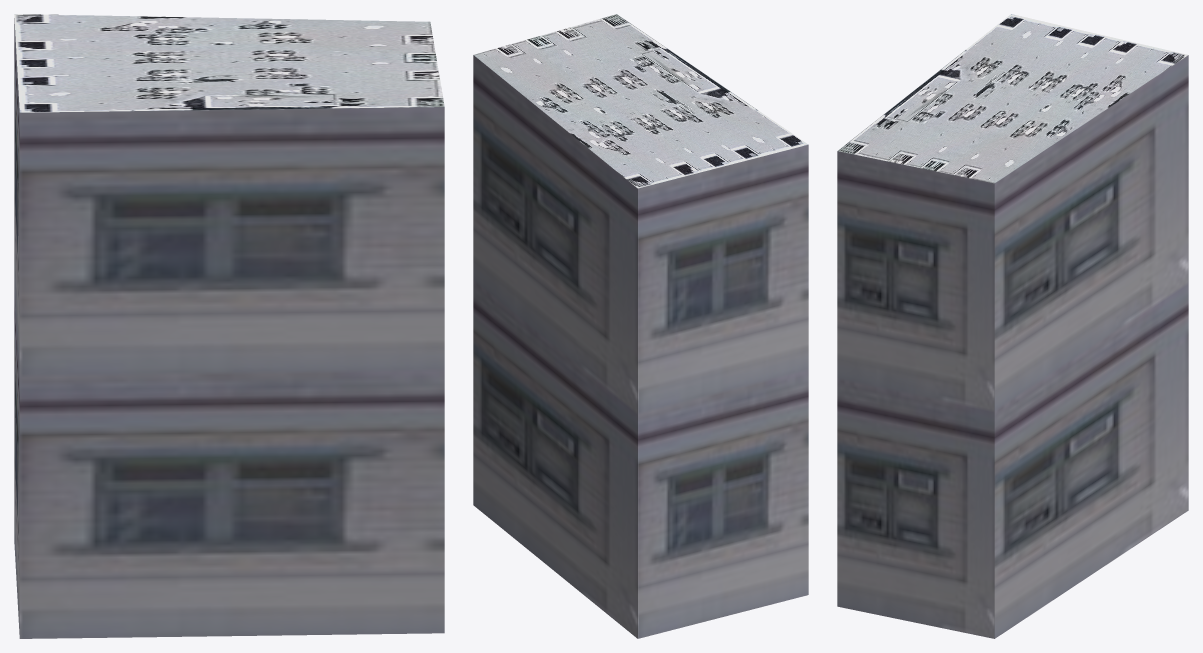
File: ResTex__3868.fbx
3 views of the same model, side by side, from view 1: azimuth 30°, elevation 25°; view 2: azimuth 150°, elevation 25°; view 3: azimuth 270°, elevation 25° (orthographic). The views are drawn at different scales.
Parts seen in each view (by area): view 1: CityEngineMaterial_1_m, CityEngineMaterial_m; view 2: CityEngineMaterial_1_m, CityEngineMaterial_m; view 3: CityEngineMaterial_1_m, CityEngineMaterial_m.
Boxes of the visible parts, x1,y1,x2,y2 form: CityEngineMaterial_1_m: [14, 18, 444, 638]; CityEngineMaterial_m: [14, 14, 444, 112]; CityEngineMaterial_1_m: [473, 55, 808, 638]; CityEngineMaterial_m: [474, 14, 807, 188]; CityEngineMaterial_1_m: [837, 55, 1188, 638]; CityEngineMaterial_m: [838, 14, 1187, 183].
Size of the model in its own units: 4.79 by 6 by 4.19.
Materials: 2 (2 with a texture image).
